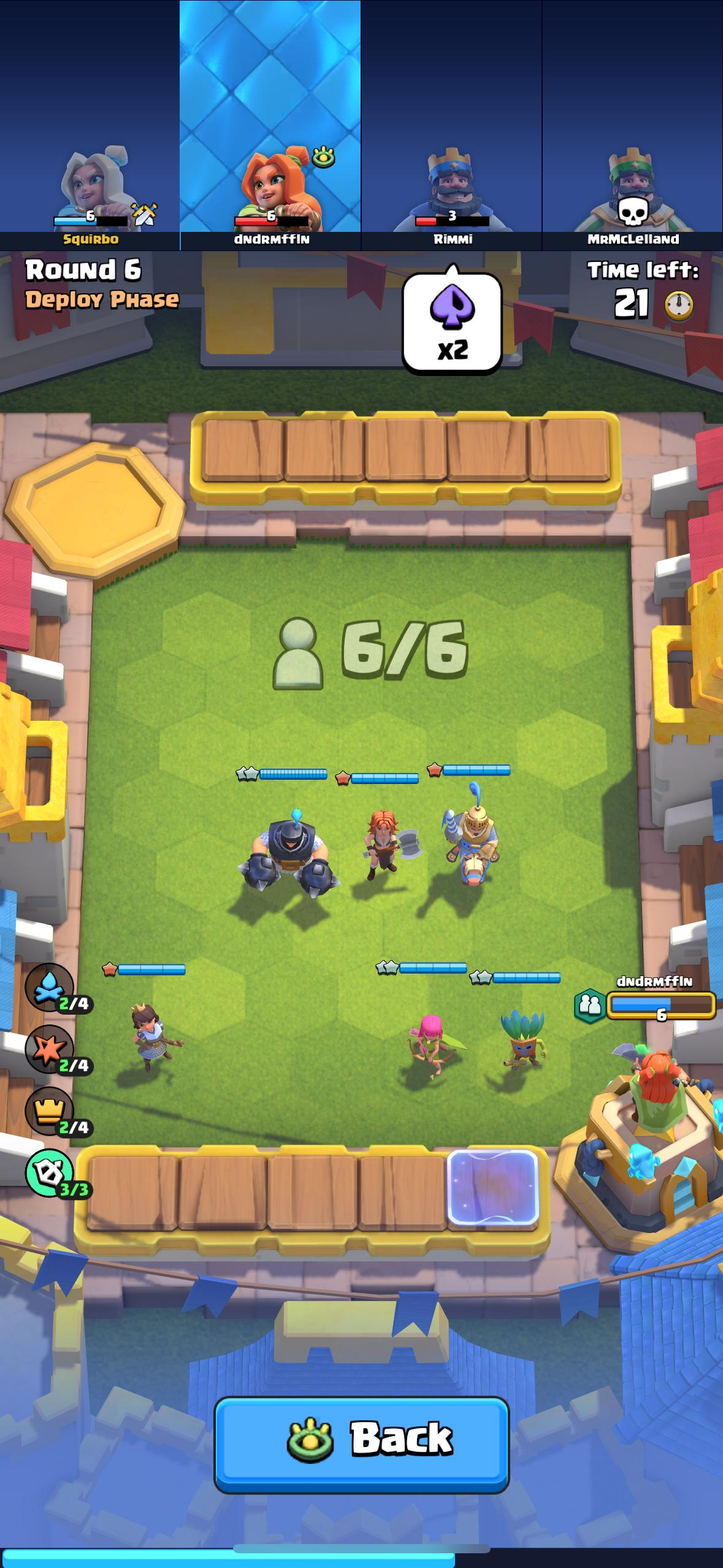archer: (406, 1003, 458, 1070)
dart: (495, 1000, 553, 1073)
mega: (240, 804, 336, 896)
prince: (440, 791, 501, 884)
princess: (124, 992, 183, 1071)
valkyrie: (359, 802, 409, 879)
